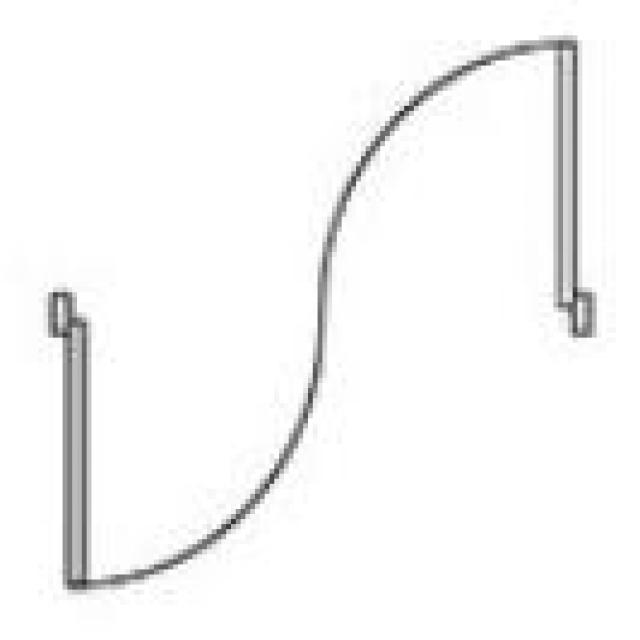door: (43, 41, 592, 580)
